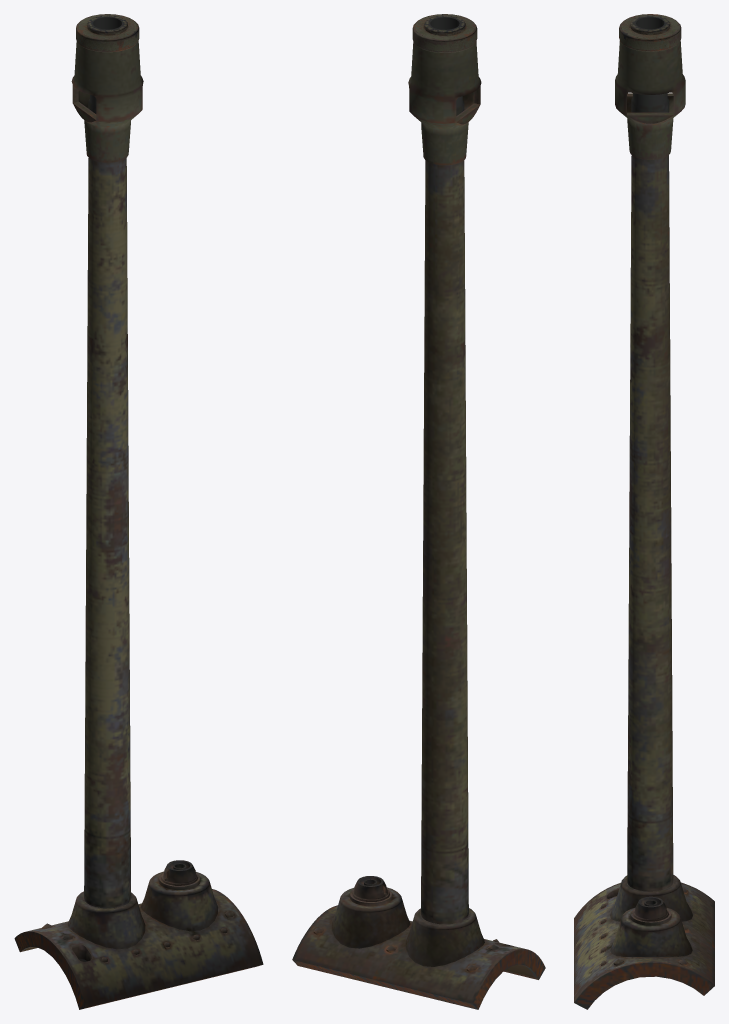
Rendered from Gun_03.glb.
The picture shows the model from 3 angles, left to right: view 1: azimuth 30°, elevation 25°; view 2: azimuth 150°, elevation 25°; view 3: azimuth 270°, elevation 25°; orthographic projection. The views are drawn at different scales.
Parts seen in each view (by area): view 1: set_0_group_0; view 2: set_0_group_0; view 3: set_0_group_0.
Boxes of the visible parts, box(x1,y1,x2,y2) form: set_0_group_0: box(14, 14, 263, 1009); set_0_group_0: box(292, 14, 545, 1009); set_0_group_0: box(574, 14, 714, 1009).
Bounding box in the file's own units: 0.9258 × 4.73 × 0.6479.
Materials: 1 (1 with a texture image).
